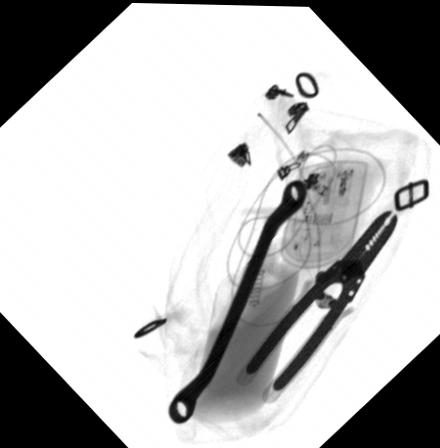Pliers: (241, 207, 397, 391)
Wrench: (166, 176, 306, 427)
